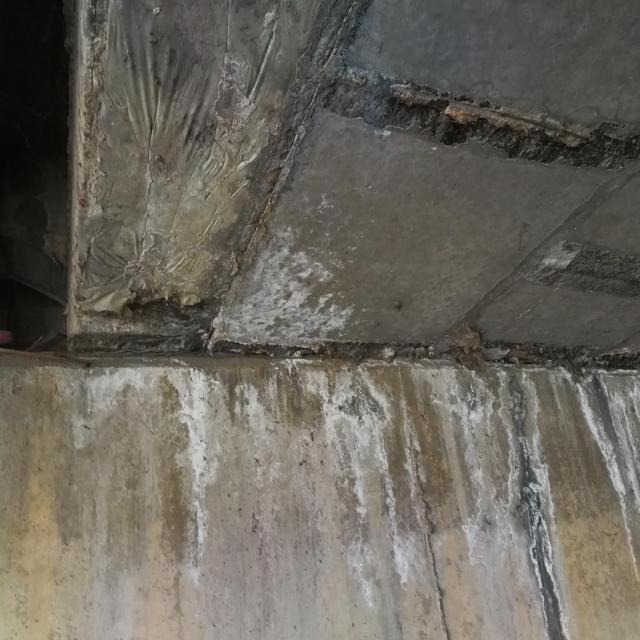concrete spalling: (316, 54, 640, 174)
